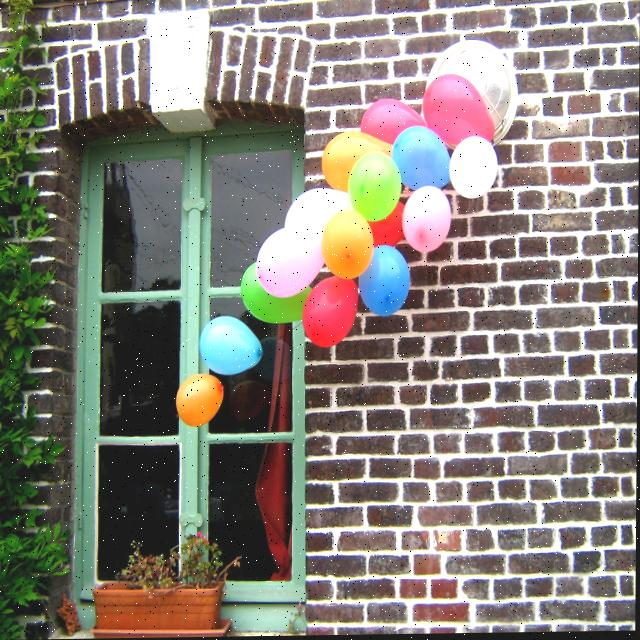balloon: (238, 262, 311, 327), (261, 229, 330, 296), (426, 80, 500, 142), (326, 130, 393, 195), (306, 278, 359, 350), (395, 124, 452, 190), (202, 312, 262, 367), (365, 246, 411, 316), (325, 209, 371, 278), (350, 150, 398, 216), (407, 187, 450, 257), (449, 138, 498, 199), (285, 184, 353, 226), (362, 99, 426, 135), (175, 376, 223, 414), (369, 205, 410, 248)
